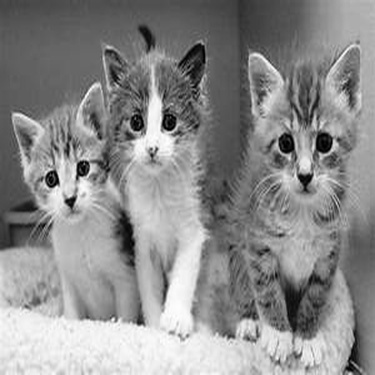cat: (222, 41, 365, 370), (92, 19, 209, 344), (9, 76, 142, 327)
